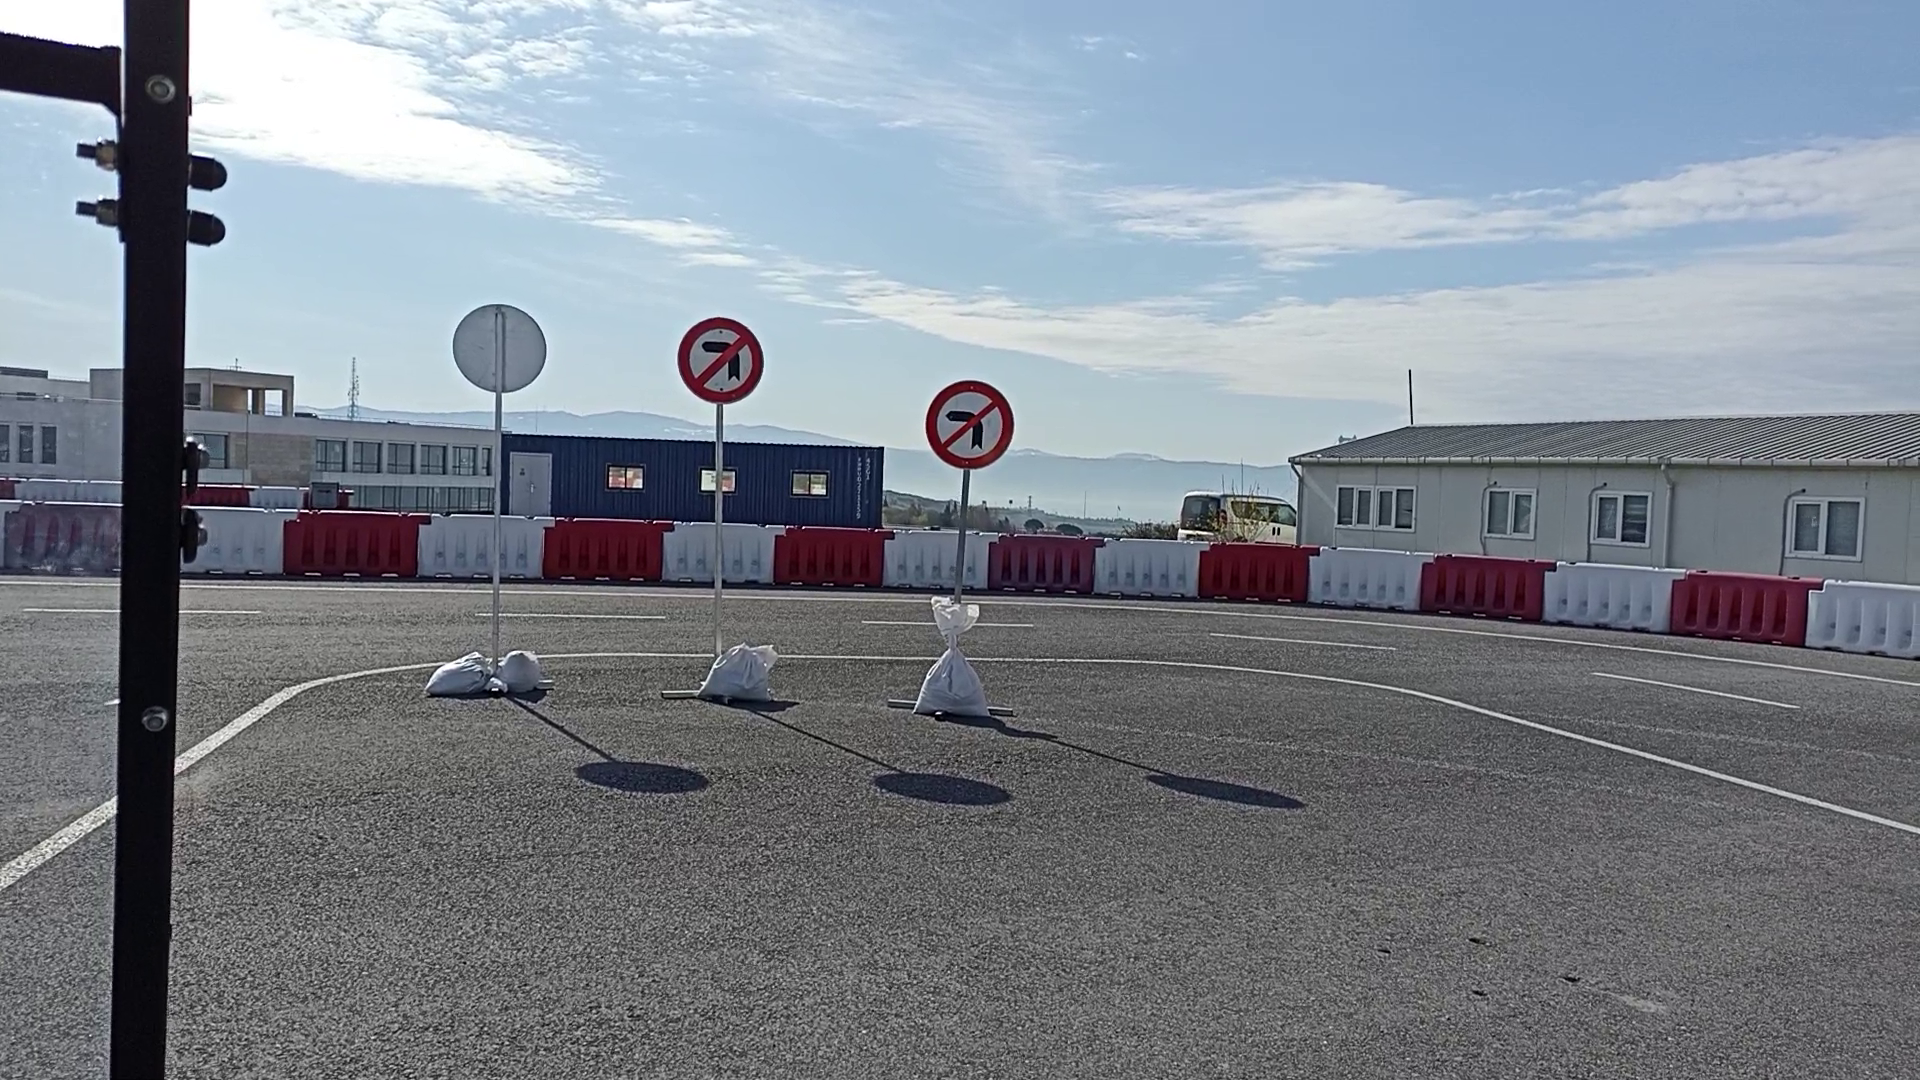noleft: (924, 378, 1017, 471), (676, 315, 765, 407)
